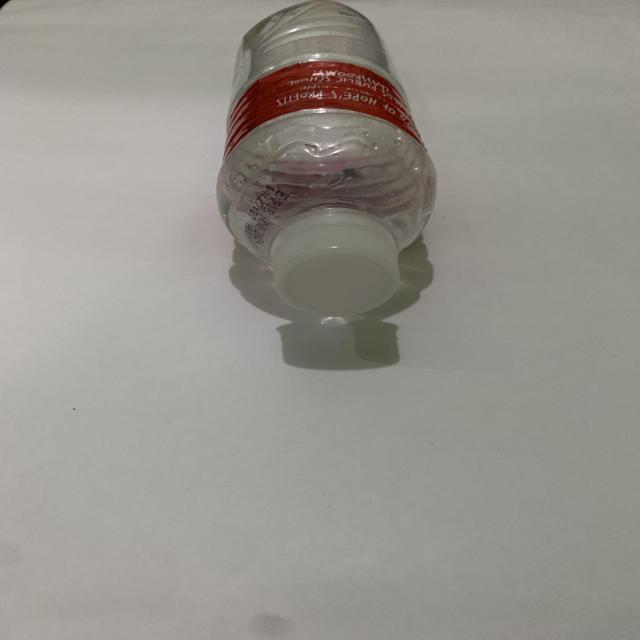bottle: (225, 0, 435, 326)
